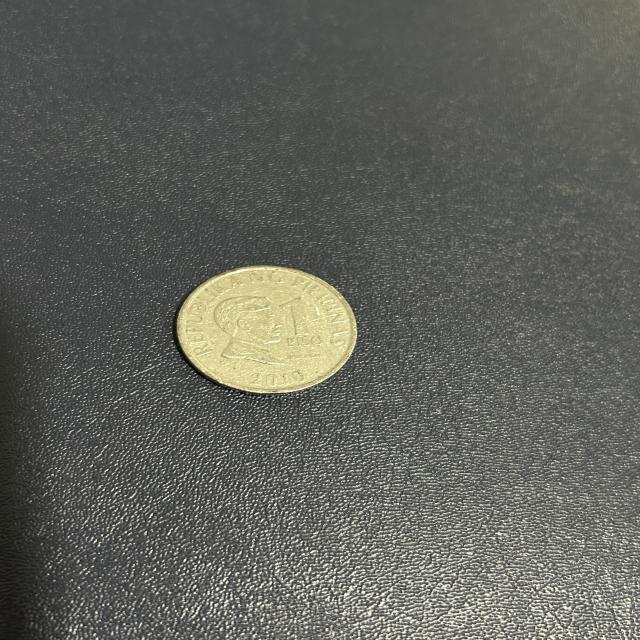1_Old_Front: (279, 298, 326, 348)
